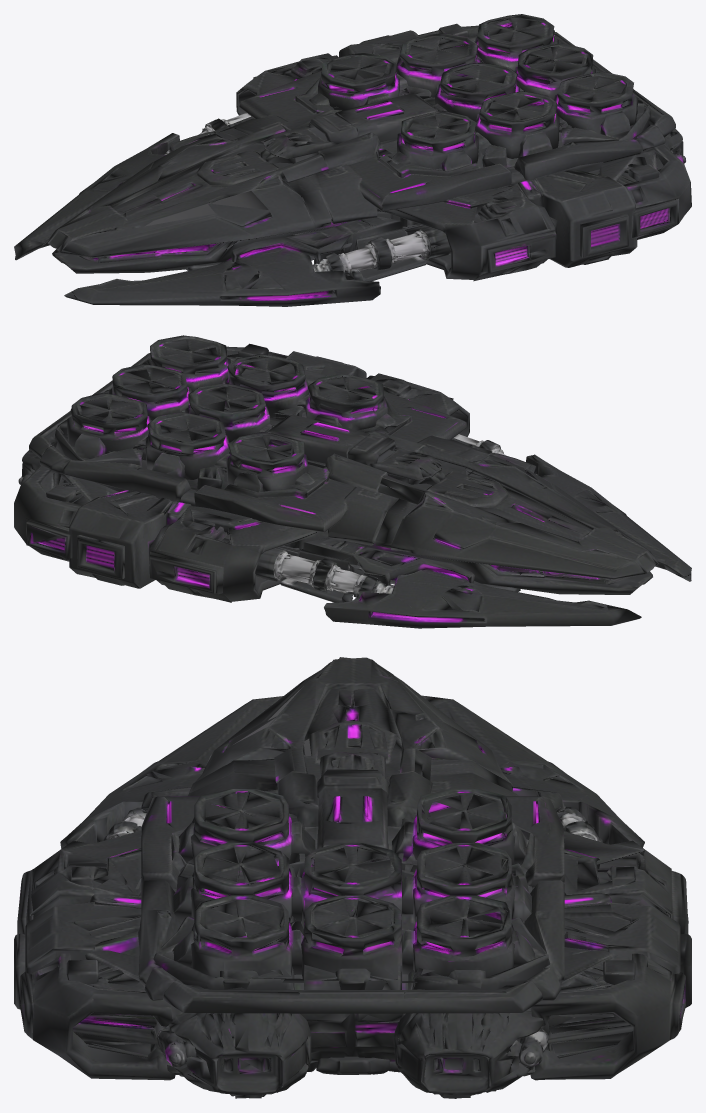
File: silo_warhead_hull.glb
3 views of the same model, one above another, from view 1: azimuth 30°, elevation 25°; view 2: azimuth 150°, elevation 25°; view 3: azimuth 270°, elevation 25° (orthographic). The views are drawn at different scales.
Visible parts, largest first — view 1: silo_warhead_hull; view 2: silo_warhead_hull; view 3: silo_warhead_hull.
Part boxes in pixels (x1,y1,x2,y2): silo_warhead_hull: (14,14,691,306); silo_warhead_hull: (14,335,691,628); silo_warhead_hull: (14,657,691,1098).
Size of the model in its own units: 2.35 by 0.4698 by 1.66.
Materials: 1 (1 with a texture image).
